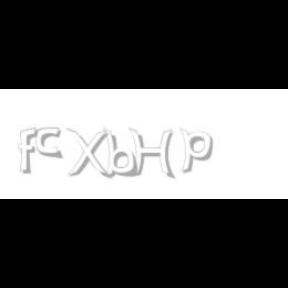H: (129, 128, 175, 180)
X: (66, 128, 110, 180)
b: (103, 128, 141, 178)
c: (36, 128, 64, 160)
f: (18, 128, 42, 174)
p: (180, 128, 216, 174)
